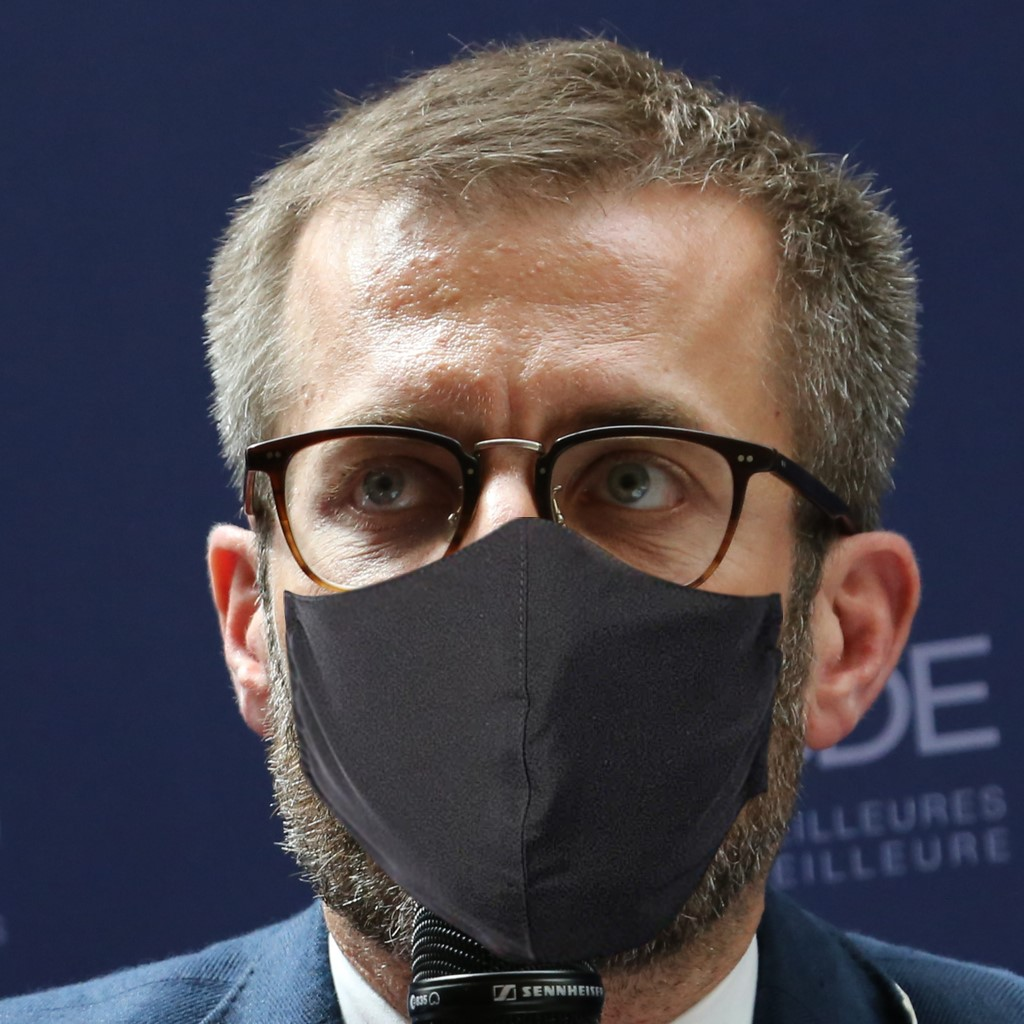con_mascara: (218, 102, 848, 982)
